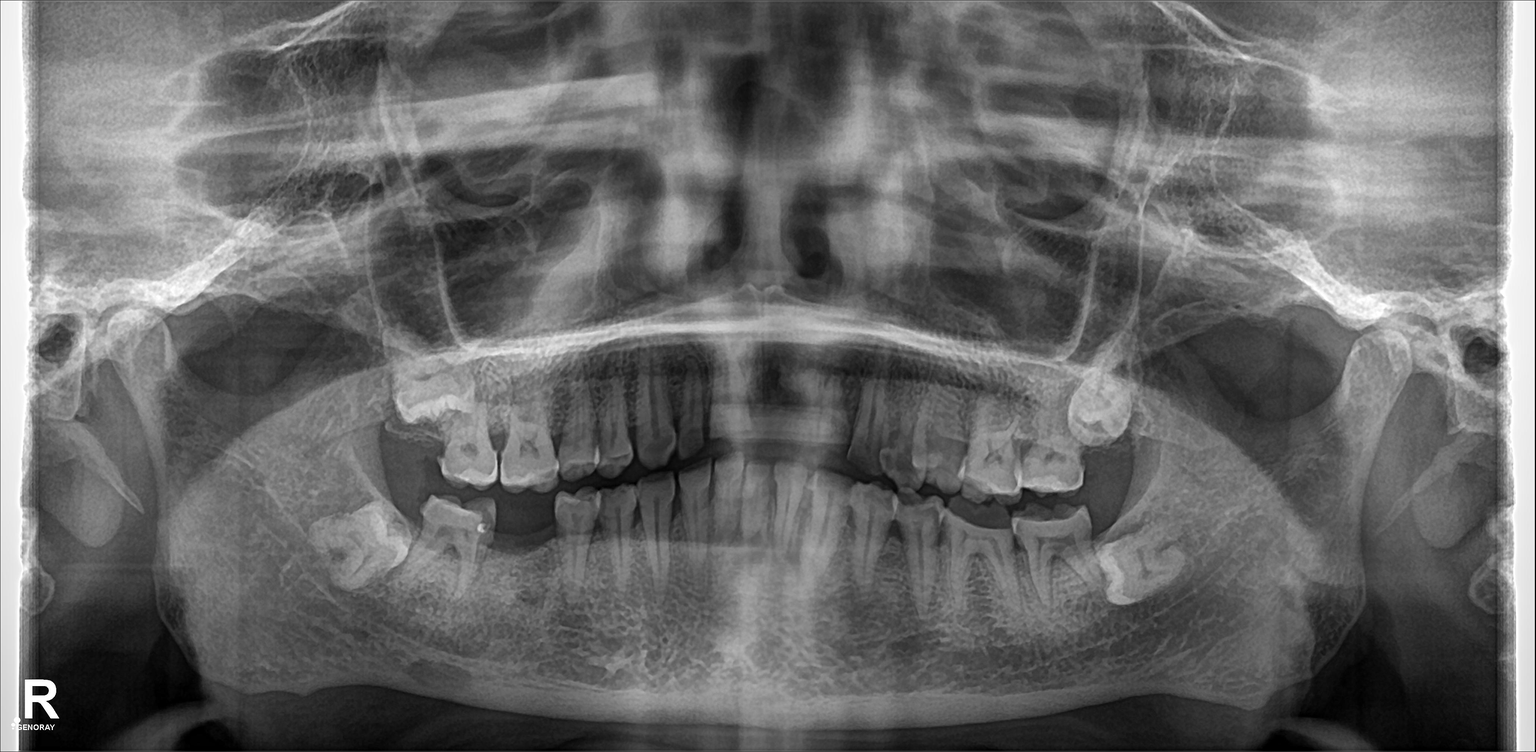Impacted Third Molar: (311, 510, 413, 588), (391, 354, 477, 407), (1104, 545, 1183, 600), (1076, 374, 1126, 434)
Missing Tooth: (385, 391, 448, 483), (711, 356, 770, 454), (492, 510, 554, 591)
